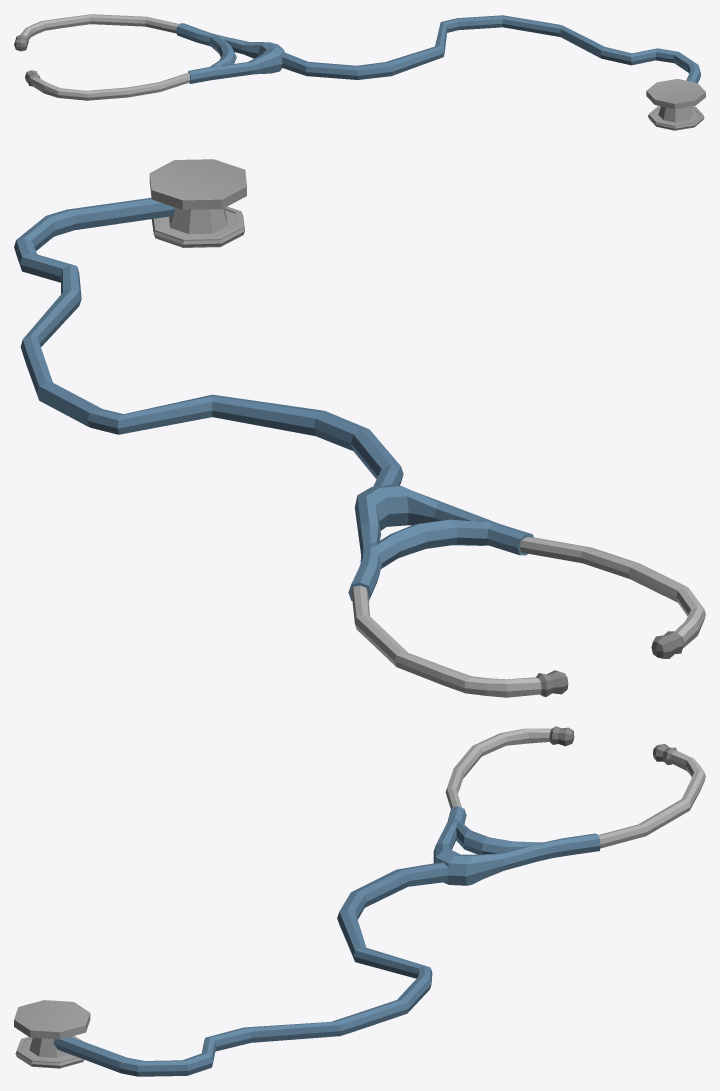
File: stetoscope.glb
3 renders of one model, top to bottom at view 1: azimuth 30°, elevation 25°; view 2: azimuth 150°, elevation 25°; view 3: azimuth 270°, elevation 25°, orthographic. The views are drawn at different scales.
Parts seen in each view (by area): view 1: stetoscope; view 2: stetoscope; view 3: stetoscope.
Part boxes in pixels (left/top/right/bottom): stetoscope: left=14, top=14, right=705, bottom=130; stetoscope: left=14, top=159, right=705, bottom=697; stetoscope: left=14, top=726, right=705, bottom=1076.
Bounding box in the file's own units: 0.5086 × 0.0261 × 0.4373.
Materials: 1 (1 with a texture image).
